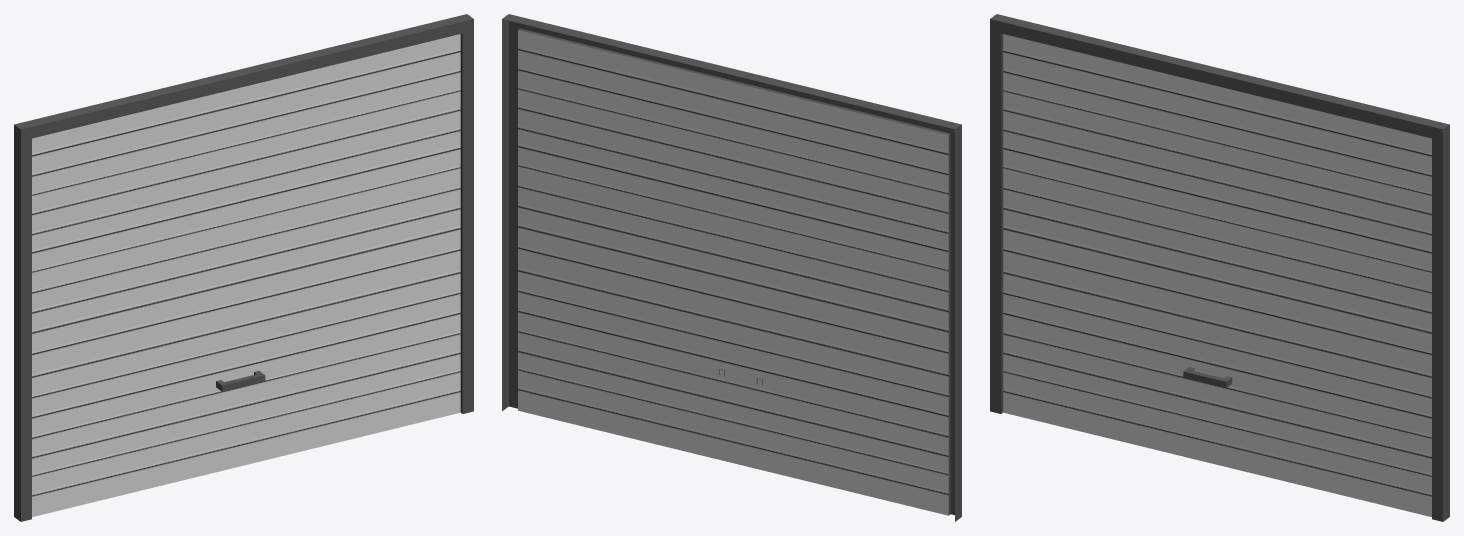
File: SM_GarageDoor.FBX
3 views of the same model, side by side, from view 1: azimuth 30°, elevation 25°; view 2: azimuth 150°, elevation 25°; view 3: azimuth 330°, elevation 25° (orthographic).
Visible parts, largest first — view 1: garagedoor; view 2: garagedoor; view 3: garagedoor.
Part boxes in pixels (box(x1,y1,x2,y2)): garagedoor: box(14, 14, 473, 521); garagedoor: box(502, 14, 961, 521); garagedoor: box(990, 14, 1449, 521).
Size of the model in its own units: 452 by 374 by 18.79.
